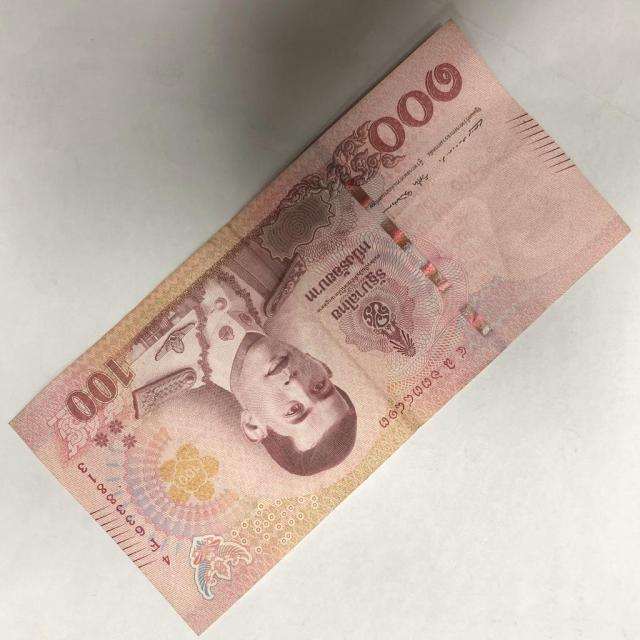THAI100: (12, 22, 629, 634)
